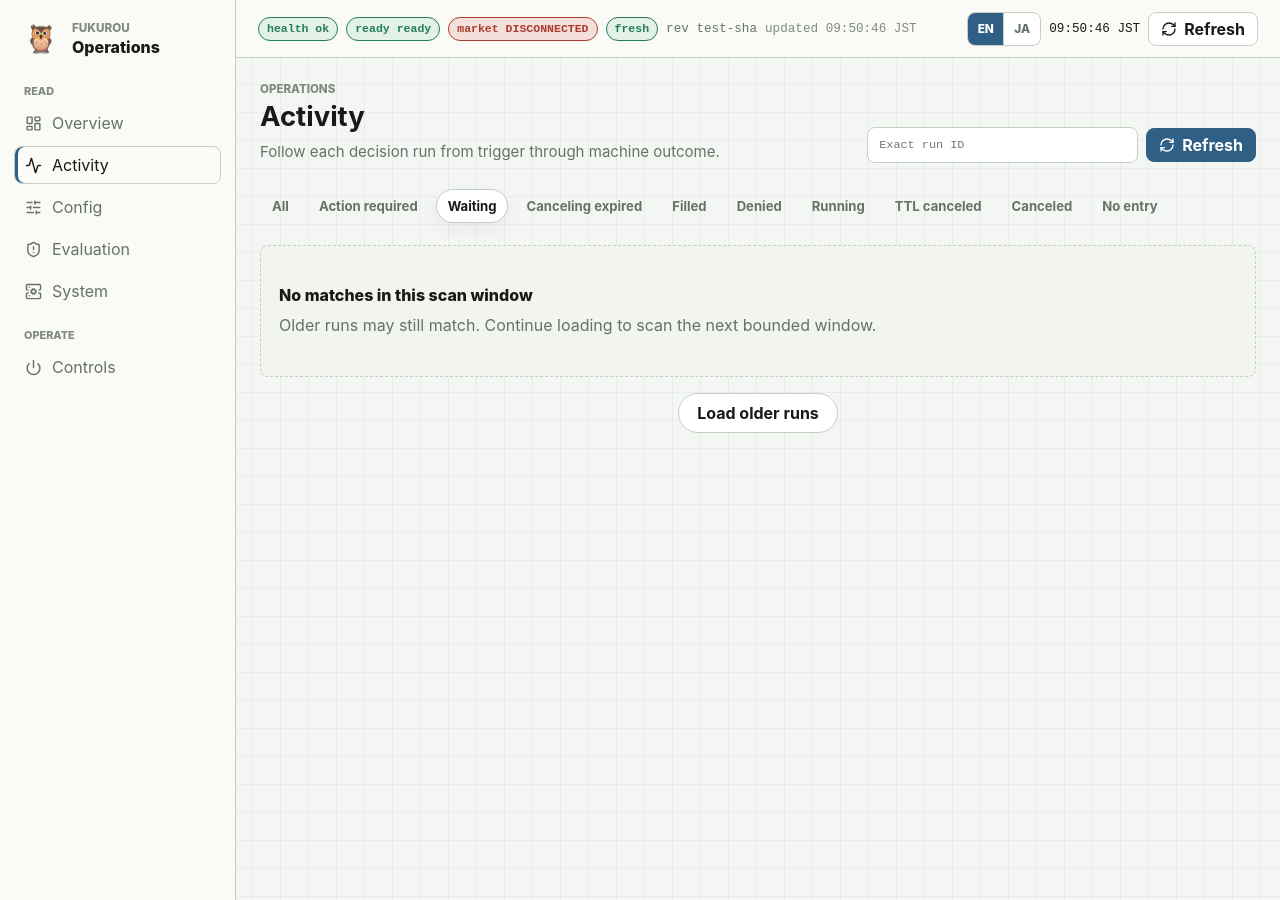
Scenario: App › continues a bounded outcome scan after an empty window
This screenshot has width=1280, height=900.
Check: the text "No matches in this scan window" is shown, box [279, 285, 533, 305]
Click the button "Load older runs" at coordinates (758, 413), box [678, 393, 838, 433]
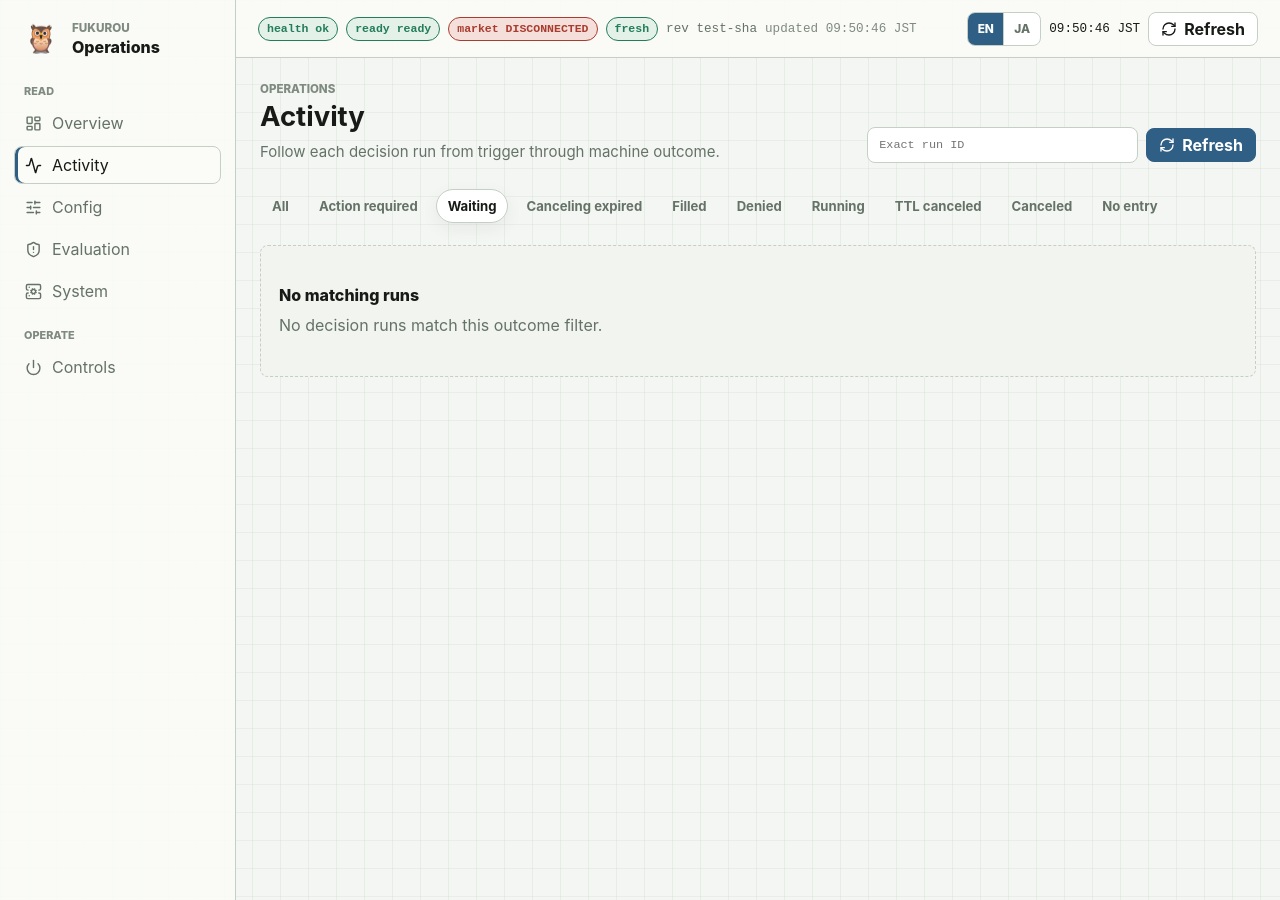
Check: the text "No matching runs" is shown, box [279, 285, 419, 305]
